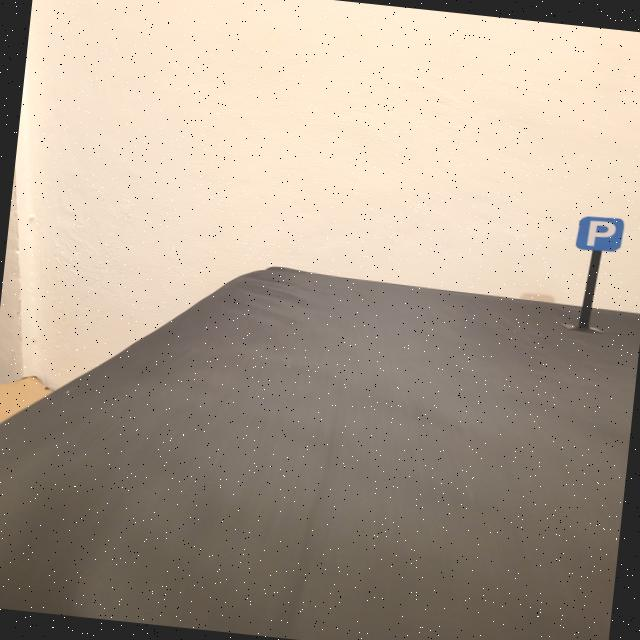parking: (575, 214, 624, 253)
